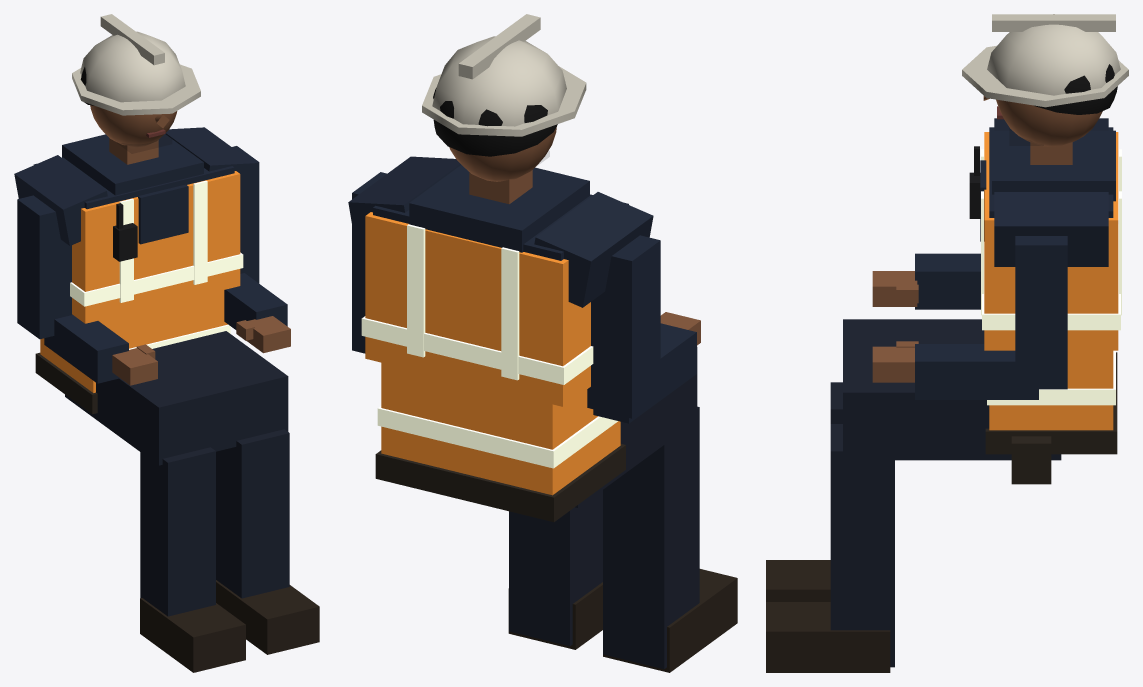
Rendered from passenger_mta.glb.
The picture shows the model from 3 angles, left to right: view 1: azimuth 30°, elevation 25°; view 2: azimuth 150°, elevation 25°; view 3: azimuth 270°, elevation 25°; orthographic projection. The views are drawn at different scales.
Visible parts, largest first — view 1: passenger_mta, Head, Body_Skin, Head_Skin; view 2: passenger_mta, Head, Head_Skin, Body_Skin; view 3: passenger_mta, Head, Body_Skin, Head_Skin.
Boxes of the visible parts, box(x1,y1,x2,y2) form: passenger_mta: box(14, 127, 319, 672); Head: box(72, 14, 200, 153); Body_Skin: box(109, 138, 290, 385); Head_Skin: box(90, 105, 177, 147); passenger_mta: box(348, 156, 737, 672); Head: box(422, 14, 586, 162); Head_Skin: box(449, 126, 556, 181); Body_Skin: box(469, 170, 700, 345); passenger_mta: box(766, 118, 1121, 672); Head: box(962, 14, 1128, 145); Body_Skin: box(872, 142, 1072, 382); Head_Skin: box(983, 96, 1102, 146).
Size of the model in its own units: 0.595 by 1.38 by 0.731.
